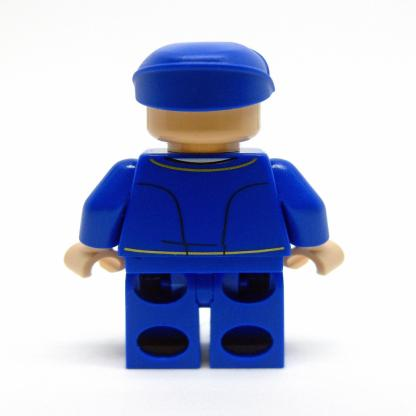Helmet: (134, 44, 276, 115)
